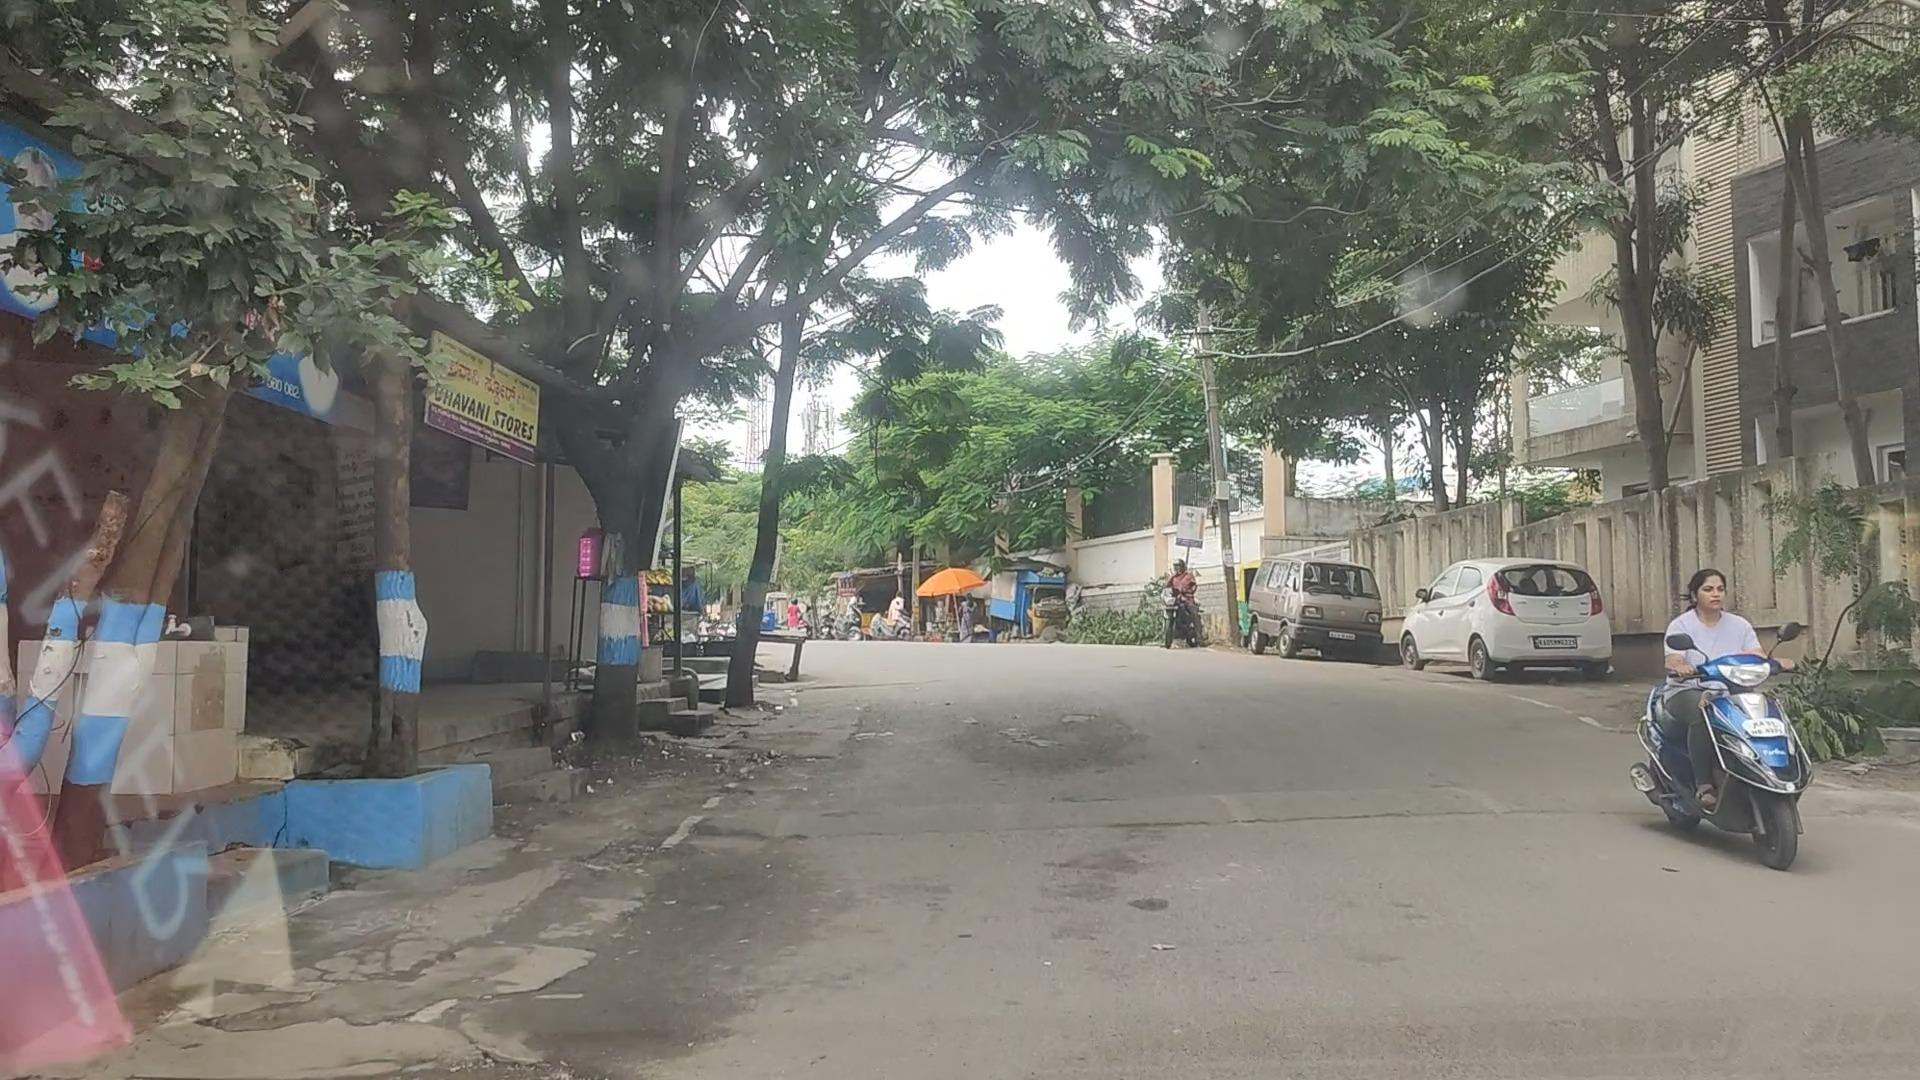LMV: (1660, 564, 1796, 869)
RoadDamages: (334, 920, 669, 1080), (534, 818, 753, 911), (967, 691, 1113, 750)
SpeedBump: (735, 786, 1633, 833)
